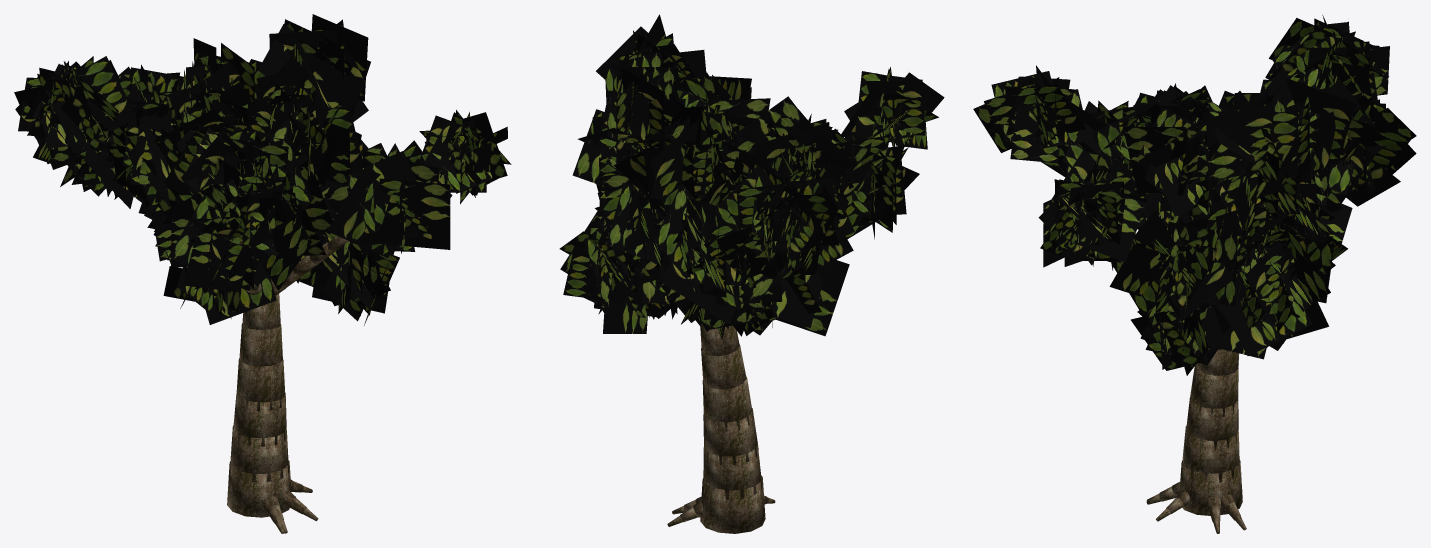
File: giant_1.glb
3 views of the same model, side by side, from view 1: azimuth 30°, elevation 25°; view 2: azimuth 150°, elevation 25°; view 3: azimuth 270°, elevation 25° (orthographic). The views are drawn at different scales.
Visible parts, largest first — view 1: giant; view 2: giant; view 3: giant.
Part boxes in pixels (box(x1,y1,x2,y2)): giant: box(14, 14, 511, 533); giant: box(559, 14, 944, 533); giant: box(973, 15, 1416, 533).
Size of the model in its own units: 16.35 by 19.14 by 17.28.
Materials: 2 (2 with a texture image).
